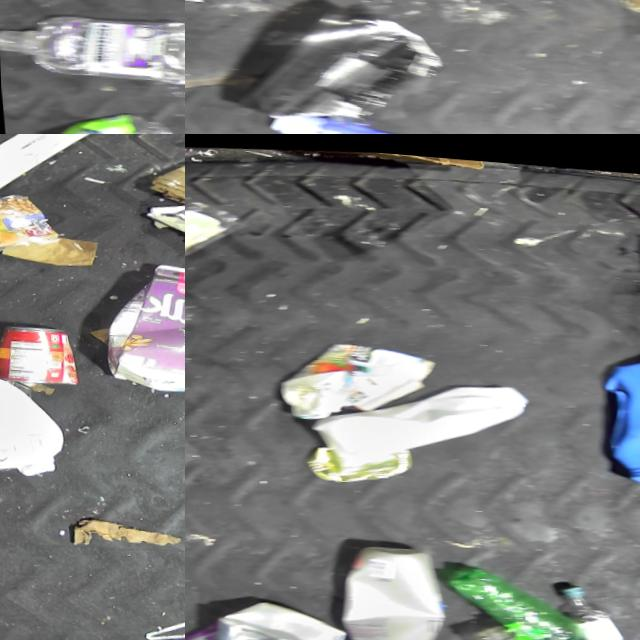can: (0, 315, 90, 389), (301, 433, 416, 485)
milk_jug: (0, 354, 69, 484)
non_white_jug: (303, 360, 538, 482), (596, 337, 640, 490)
plastic_bottle: (447, 606, 617, 640), (9, 101, 178, 134), (555, 568, 628, 640)
